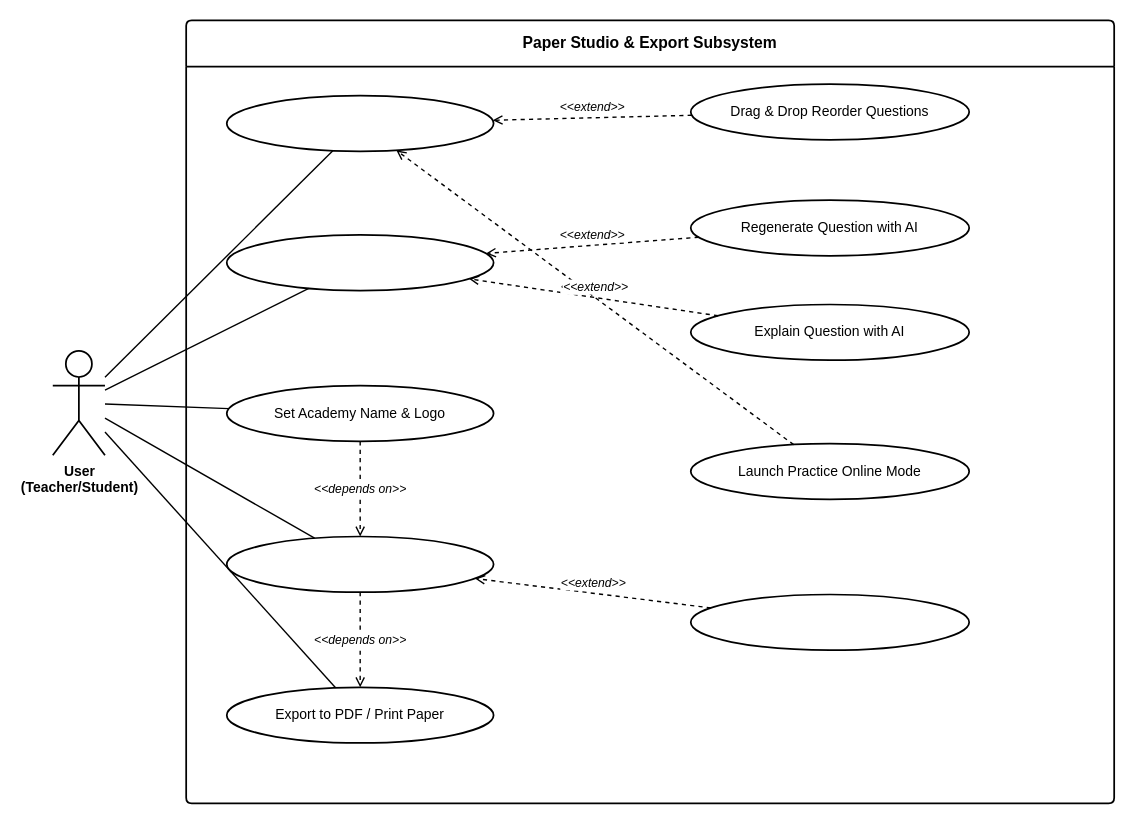
This 1134x825 diagram has some shape labels left out. The shapes that lost their labels are listed below. From the top down, each one's centre as x and y in pixels, then its label:
At pixel 359 123: "Preview Formatted Exam Paper".
At pixel 359 262: "Inline Edit Questions & Marks".
At pixel 359 564: "Export to Word (.docx)".
At pixel 829 622: "Generate Detached Answer Key".
